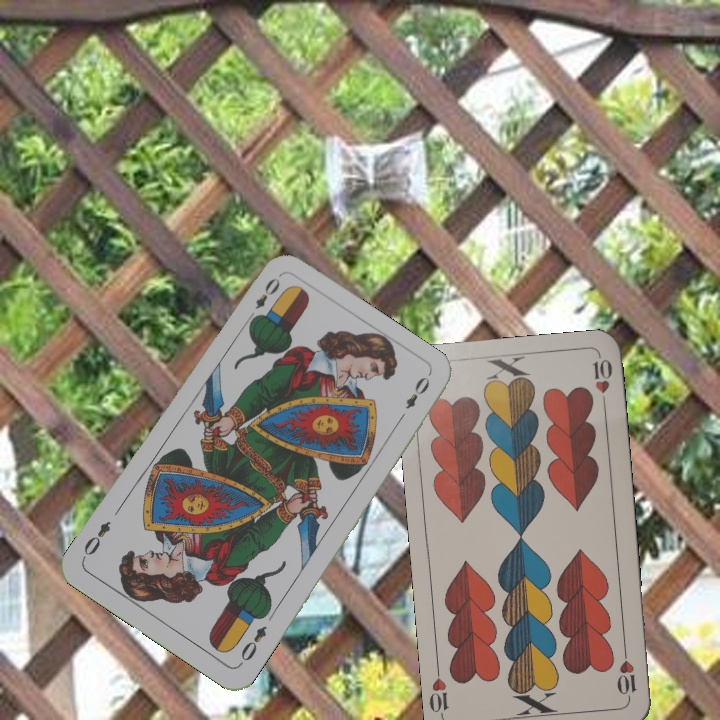EO: (244, 273, 283, 325), (235, 621, 270, 668)
H10: (614, 643, 640, 702)
